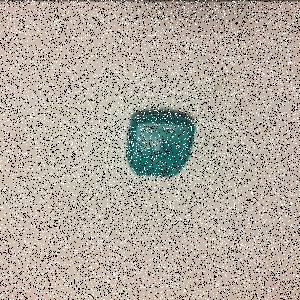Trash: (125, 111, 197, 178)
